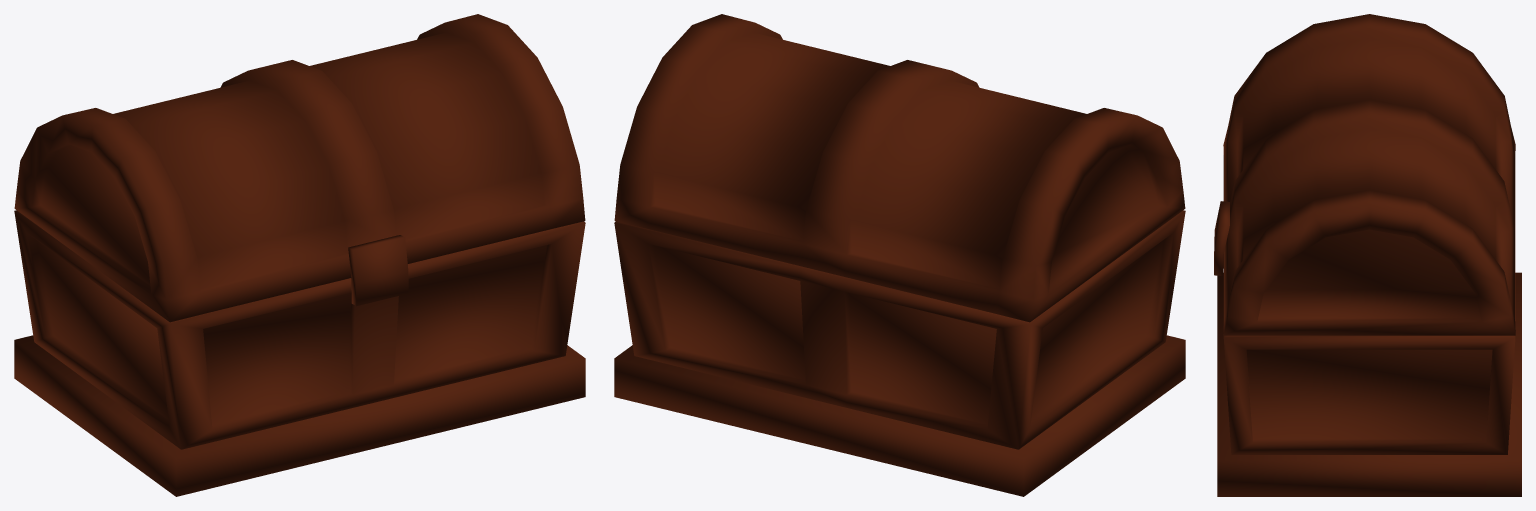
Rendered from chest.obj.
3 views of the same model, side by side, from view 1: azimuth 30°, elevation 25°; view 2: azimuth 150°, elevation 25°; view 3: azimuth 270°, elevation 25° (orthographic). The views are drawn at different scales.
Visible parts, largest first — view 1: chest; view 2: chest; view 3: chest.
Boxes of the visible parts, x1,y1,x2,y2 form: chest: (14,14,585,496); chest: (614,14,1185,496); chest: (1214,14,1521,496).
Size of the model in its own units: 2.59 by 1.85 by 1.76.
